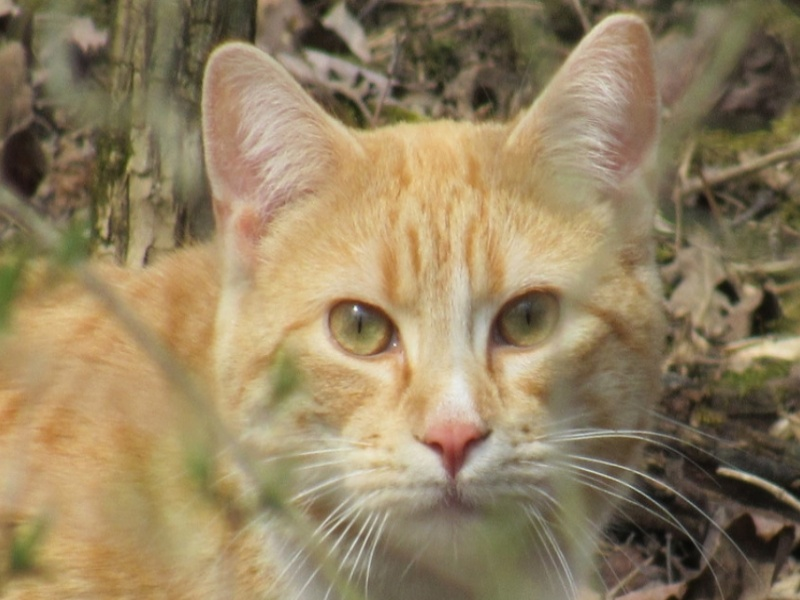cat: (3, 13, 657, 599)
